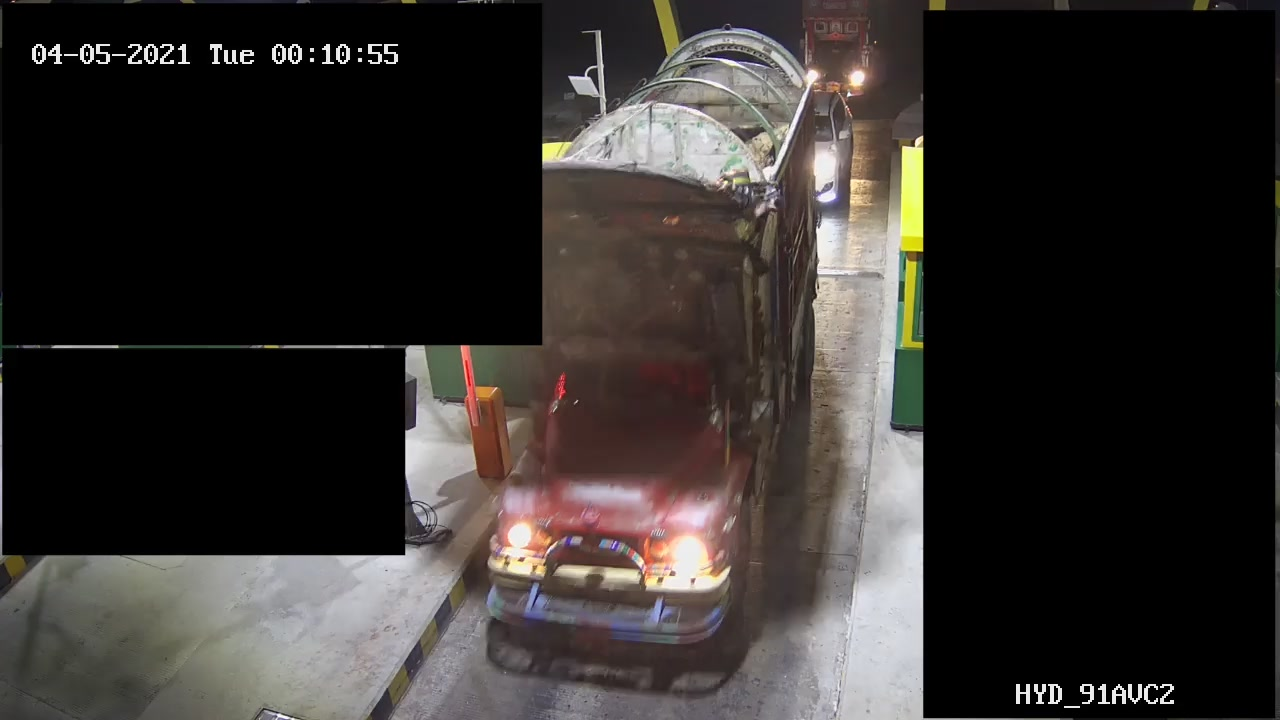F5: (459, 7, 814, 658)
